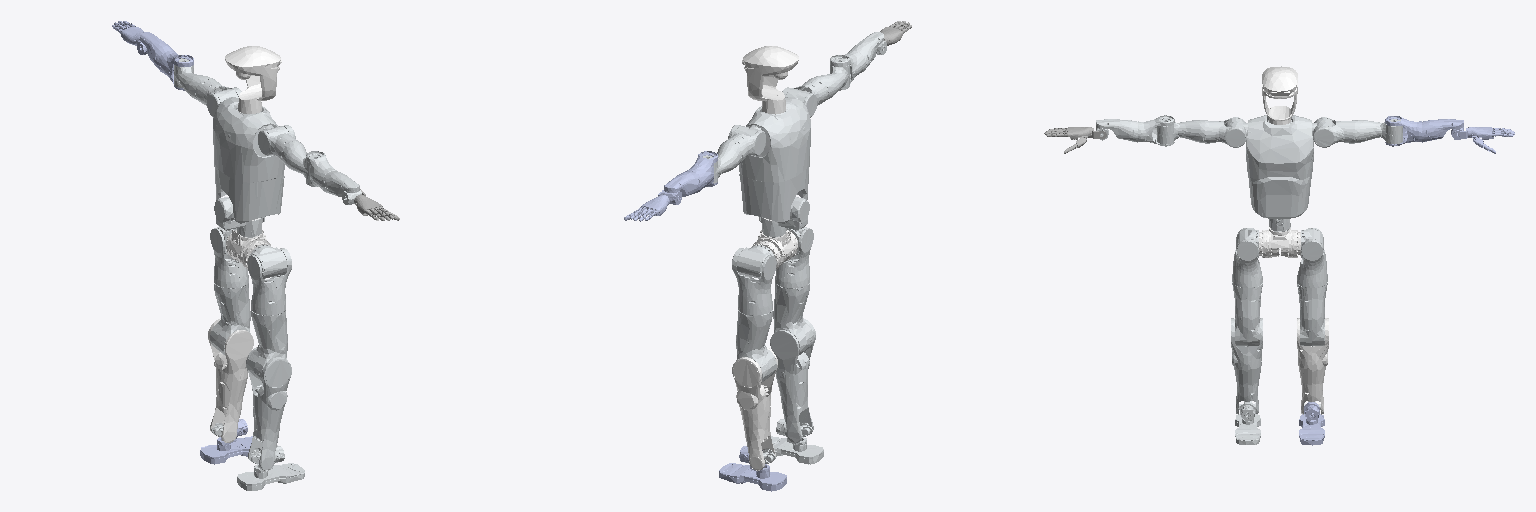
--- Facts derived from the render (not from the file) ---
3 views of the same robot in one strip: view 1: azimuth 30°, elevation 25°; view 2: azimuth 150°, elevation 25°; view 3: azimuth 270°, elevation 25° (orthographic).
Model T170-V2.1-A0-mass with 32 links and 31 joints (23 revolute, 8 fixed), rooted at base_link, posed all joints at 0.
Visible links, largest first — view 1: WAIST_P_S, R_KNEE_P_S, L_KNEE_P_S, NECK_Y_S, R_HIP_Y_S, L_HIP_Y_S, R_HIP_R_S, R_ANKLE_R_S, L_HIP_R_S, L_ANKLE_R_S, WAIST_Y_S, base_link (+10 smaller); view 2: WAIST_P_S, L_KNEE_P_S, R_KNEE_P_S, NECK_Y_S, L_HIP_Y_S, R_HIP_Y_S, L_HIP_R_S, L_ANKLE_R_S, R_HIP_R_S, R_ANKLE_R_S, WAIST_Y_S, base_link (+10 smaller); view 3: WAIST_P_S, L_KNEE_P_S, R_KNEE_P_S, NECK_Y_S, R_HIP_Y_S, L_HIP_Y_S, L_HIP_R_S, R_HIP_R_S, base_link, L_SHOULDER_Y_S, L_ANKLE_R_S, R_ANKLE_R_S (+9 smaller).
Boxes of the visible links, x1=… form: WAIST_P_S: x1=213, y1=97, x2=284, y2=223; R_KNEE_P_S: x1=246, y1=347, x2=291, y2=470; L_KNEE_P_S: x1=208, y1=318, x2=253, y2=442; NECK_Y_S: x1=225, y1=46, x2=281, y2=113; R_HIP_Y_S: x1=247, y1=310, x2=287, y2=382; L_HIP_Y_S: x1=210, y1=283, x2=250, y2=355; R_HIP_R_S: x1=247, y1=248, x2=291, y2=315; R_ANKLE_R_S: x1=237, y1=445, x2=304, y2=490; L_HIP_R_S: x1=210, y1=228, x2=248, y2=288; L_ANKLE_R_S: x1=200, y1=419, x2=252, y2=464; WAIST_Y_S: x1=214, y1=197, x2=264, y2=237; base_link: x1=226, y1=218, x2=270, y2=268; WAIST_P_S: x1=739, y1=97, x2=810, y2=223; L_KNEE_P_S: x1=732, y1=347, x2=777, y2=470; R_KNEE_P_S: x1=770, y1=318, x2=815, y2=442; NECK_Y_S: x1=742, y1=46, x2=798, y2=114; L_HIP_Y_S: x1=736, y1=310, x2=776, y2=382; R_HIP_Y_S: x1=773, y1=283, x2=813, y2=354; L_HIP_R_S: x1=732, y1=248, x2=776, y2=315; L_ANKLE_R_S: x1=719, y1=446, x2=786, y2=491; R_HIP_R_S: x1=775, y1=228, x2=813, y2=288; R_ANKLE_R_S: x1=771, y1=419, x2=823, y2=464; WAIST_Y_S: x1=759, y1=197, x2=809, y2=237; base_link: x1=752, y1=218, x2=797, y2=268; WAIST_P_S: x1=1246, y1=115, x2=1313, y2=218; L_KNEE_P_S: x1=1297, y1=318, x2=1328, y2=414; R_KNEE_P_S: x1=1231, y1=318, x2=1262, y2=414; NECK_Y_S: x1=1262, y1=66, x2=1297, y2=124; R_HIP_Y_S: x1=1232, y1=282, x2=1262, y2=346; L_HIP_Y_S: x1=1297, y1=283, x2=1327, y2=346; L_HIP_R_S: x1=1297, y1=228, x2=1327, y2=287; R_HIP_R_S: x1=1232, y1=228, x2=1262, y2=287; base_link: x1=1259, y1=227, x2=1300, y2=257; L_SHOULDER_Y_S: x1=1355, y1=119, x2=1402, y2=144; L_ANKLE_R_S: x1=1299, y1=402, x2=1324, y2=445; R_ANKLE_R_S: x1=1235, y1=402, x2=1260, y2=444.
Size in the robot's own frame: 0.2739 by 2.02 by 1.72 metres.
31 mesh visuals loaded from 31 distinct referenced files (31 binary STL).

URDF robot description (T170-V2.1-A0-mass):
<?xml version="1.0" encoding="utf-8"?>
<!-- This URDF was automatically created by SolidWorks to URDF Exporter! Originally created by Stephen Brawner ([email redacted])
     Commit Version: 1.6.0-4-g7f85cfe  Build Version: 1.6.7995.38578
     For more information, please see http://wiki.ros.org/sw_urdf_exporter -->
<robot
  name="T170-V2.1-A0-mass">
  <link
    name="base_link">
    <inertial>
              <origin
                xyz="-6.500000000000001e-05 1e-06 -0.045045"
                rpy="0 0 0" />
              <mass
                value="5.294303" />
              <inertia
                ixx="0.024433582611999998"
                ixy="1.3235e-07"
                ixz="1.4710277000000001e-05"
                iyy="0.016612578556"
                iyz="-1.68893e-07"
                izz="0.016497152209000002" />
            </inertial>
    <visual>
      <origin
        xyz="0 0 0"

        rpy="0 0 0" />
      <geometry>
        <mesh
          filename="./meshes/BASE_S.STL" />
      </geometry>
      <material
        name="">
        <color
          rgba="1 1 1 1" />
      </material>
    </visual>
    <collision>
      <origin
        xyz="0 0 -0.08"
        rpy="1.57 0 0" />
			<geometry>
				<cylinder length="0.2" radius="0.05"/>
			</geometry>
    </collision>
  </link>

  <link
    name="L_HIP_P_S">
    <inertial>
              <origin
                xyz="0.012891999999999999 0.041366999999999994 1e-06"
                rpy="0 0 0" />
              <mass
                value="1.60224" />
              <inertia
                ixx="0.002350403566"
                ixy="-7.038434699999999e-05"
                ixz="1.8192000000000002e-08"
                iyy="0.0026586781120000002"
                iyz="5.7659e-08"
                izz="0.0023079587030000004" />
            </inertial>
    <visual>
      <origin
        xyz="0 0 0"
        rpy="0 0 0" />
      <geometry>
        <mesh
          filename="./meshes/L_HIP_P_S.STL" />
      </geometry>
      <material
        name="">
        <color
          rgba="0.898039215686275 0.917647058823529 0.929411764705882 1" />
      </material>
    </visual>
    <!--<collision>
      <origin
        xyz="0 0 0"
        rpy="0 0 0" />
      <geometry>
        <mesh
          filename="./meshes/L_HIP_P_S.STL" />
      </geometry>
    </collision>-->
  </link>
  <joint
    name="L_HIP_P"
    type="revolute">
    <origin
      xyz="0 0.0945 -0.067"
      rpy="0 0 0" />
    <parent
      link="base_link" />
    <child
      link="L_HIP_P_S" />
    <axis
      xyz="0 1 0" />
    <limit
      lower="-3.14"
      upper="3.14"
      effort="267"
      velocity="5.76" />
  </joint>
  <link
    name="L_HIP_R_S">
    <inertial>
              <origin
                xyz="-0.052494 0.001116 -0.135556"
                rpy="0 0 0" />
              <mass
                value="2.123182" />
              <inertia
                ixx="0.007651730159"
                ixy="-1.0006102999999999e-05"
                ixz="-0.001027271998"
                iyy="0.008350014866"
                iyz="-0.00015041607399999998"
                izz="0.003346951658" />
            </inertial>
    <visual>
      <origin
        xyz="0 0 0"
        rpy="0 0 0" />
      <geometry>
        <mesh
          filename="./meshes/L_HIP_R_S.STL" />
      </geometry>
      <material
        name="">
        <color
          rgba="0.898039215686275 0.917647058823529 0.929411764705882 1" />
      </material>
    </visual>
    <!--<collision>
      <origin
        xyz="0 0 0"
        rpy="0 0 0" />
      <geometry>
        <mesh
          filename="./meshes/L_HIP_R_S.STL" />
      </geometry>
    </collision>-->
  </link>
  <joint
    name="L_HIP_R"
    type="revolute">
    <origin
      xyz="0.058 0.044 0"
      rpy="0 0 0" />
    <parent
      link="L_HIP_P_S" />
    <child
      link="L_HIP_R_S" />
    <axis
      xyz="1 0 0" />
    <limit
      lower="-0.261"
      upper="1.744"
      effort="69"
      velocity="8.06" />
  </joint>
  <link
    name="L_HIP_Y_S">
    <inertial>
              <origin
                xyz="0.001701 0.007194 -0.198857"
                rpy="0 0 0" />
              <mass
                value="3.313186" />
              <inertia
                ixx="0.017727672841"
                ixy="-6.456893699999999e-05"
                ixz="-0.000408727743"
                iyy="0.018146293801"
                iyz="-0.00033327960600000004"
                izz="0.006599402896" />
            </inertial>
    <visual>
      <origin
        xyz="0 0 0"
        rpy="0 0 0" />
      <geometry>
        <mesh
          filename="./meshes/L_HIP_Y_S.STL" />
      </geometry>
      <material
        name="">
        <color
          rgba="0.898039215686275 0.917647058823529 0.929411764705882 1" />
      </material>
    </visual>
    <collision>
      <origin
        xyz="0 0.0 -0.05"
        rpy="0 0 0" />
			<geometry>
				<cylinder length="0.2" radius="0.05"/>
			</geometry>
    </collision>
  </link>
  <joint
    name="L_HIP_Y"
    type="revolute">
    <origin
      xyz="-0.058 0 -0.1972"
      rpy="0 0 0" />
    <parent
      link="L_HIP_R_S" />
    <child
      link="L_HIP_Y_S" />
    <axis
      xyz="0 0 -1" />
    <limit
      lower="-3.14"
      upper="3.14"
      effort="121"
      velocity="6.81" />
  </joint>
  <link
    name="L_KNEE_P_S">
    <inertial>
              <origin
                xyz="0.000631 -0.043392 -0.119632"
                rpy="0 0 0" />
              <mass
                value="2.644024" />
              <inertia
                ixx="0.025178069248"
                ixy="-6.2763632e-05"
                ixz="-0.00159828665"
                iyy="0.023717199600000002"
                iyz="-0.00031968927500000005"
                izz="0.006274894778" />
            </inertial>
    <visual>
      <origin
        xyz="0 0 0"
        rpy="0 0 0" />
      <geometry>
        <mesh
          filename="./meshes/L_KNEE_P_S.STL" />
      </geometry>
      <material
        name="">
        <color
          rgba="1 1 1 1" />
      </material>
    </visual>
    <collision>
      <origin
        xyz="0 -0.05 -0.15"
        rpy="0 0 0" />
			<geometry>
				<cylinder length="0.2" radius="0.05"/>
			</geometry>
    </collision>
  </link>
  <joint
    name="L_KNEE_P"
    type="revolute">
    <origin
      xyz="0 0.057 -0.2228"
      rpy="0 0 0" />
    <parent
      link="L_HIP_Y_S" />
    <child
      link="L_KNEE_P_S" />
    <axis
      xyz="0 1 0" />
    <limit
      lower="-0.83"
      upper="2.3"
      effort="267"
      velocity="5.76" />
  </joint>
  <link
    name="L_ANKLE_P_S">
    <inertial>
              <origin
                xyz="-0.0051920000000000004 -0.003552 0.001356"
                rpy="0 0 0" />
              <mass
                value="0.208363" />
              <inertia
                ixx="0.000112416441"
                ixy="1.092665e-06"
                ixz="7.950015000000001e-06"
                iyy="7.9570327e-05"
                iyz="-2.66666e-07"
                izz="0.00015223668599999998" />
            </inertial>
    <visual>
      <origin
        xyz="0 0 0"
        rpy="0 0 0" />
      <geometry>
        <mesh
          filename="./meshes/L_ANKLE_P_S.STL" />
      </geometry>
      <material
        name="">
        <color
          rgba="0.898039215686275 0.917647058823529 0.929411764705882 1" />
      </material>
    </visual>
    <!--<collision>
      <origin
        xyz="0 0 0"
        rpy="0 0 0" />
      <geometry>
        <mesh
          filename="./meshes/L_ANKLE_P_S.STL" />
      </geometry>
    </collision>-->
  </link>
  <joint
    name="L_ANKLE_P"
    type="revolute">
    <origin
      xyz="-0.032248 -0.058 -0.36859"
      rpy="0 0 0" />
    <parent
      link="L_KNEE_P_S" />
    <child
      link="L_ANKLE_P_S" />
    <axis
      xyz="0 -1 0" />
    <limit
      lower="-1.57"
      upper="0.614"
      effort="69"
      velocity="8.06" />
  </joint>
  <link
    name="L_ANKLE_R_S">
    <inertial>
              <origin
                xyz="0.016272 2e-06 -0.054217"
                rpy="0 0 0" />
              <mass
                value="1.670521" />
              <inertia
                ixx="0.0034800322570000004"
                ixy="1.9162e-07"
                ixz="-0.000268219044"
                iyy="0.008485757659"
                iyz="1.3101000000000001e-08"
                izz="0.006910381204" />
            </inertial>
    <visual>
      <origin
        xyz="0 0 0"
        rpy="0 0 0" />
      <geometry>
        <mesh
          filename="./meshes/L_ANKLE_R_S.STL" />
      </geometry>
      <material
        name="">
        <color
          rgba="0.792156862745098 0.819607843137255 0.933333333333333 1" />
      </material>
    </visual>
    <!--<collision>
      <origin
        xyz="0 0 0"
        rpy="0 0 0" />
      <geometry>
        <mesh
          filename="./meshes/L_ANKLE_R_S.STL" />
      </geometry>
    </collision>-->

    <collision>
      <origin
        xyz="0.02 0 -0.08"
        rpy="0 0 0" />
      <geometry>
        <box size="0.24 0.11 0.03"/>
      </geometry>
    </collision>

  </link>
  <joint
    name="L_ANKLE_R"
    type="revolute">
    <origin
      xyz="0.023 0 0"
      rpy="0 0 0" />
    <parent
      link="L_ANKLE_P_S" />
    <child
      link="L_ANKLE_R_S" />
    <axis
      xyz="1 0 0" />
    <limit
      lower="-0.64"
      upper="0.64"
      effort="23"
      velocity="10.16" />
  </joint>
  <link
    name="R_HIP_P_S">
    <inertial>
              <origin
                xyz="0.012891999999999999 -0.041366999999999994 1e-06"
                rpy="0 0 0" />
              <mass
                value="1.602236" />
              <inertia
                ixx="0.002350387347"
                ixy="7.0386011e-05"
                ixz="2.08997e-07"
                iyy="0.002658669353"
                iyz="-5.7559e-08"
                izz="0.002307962669" />
            </inertial>
    <visual>
      <origin
        xyz="0 0 0"
        rpy="0 0 0" />
      <geometry>
        <mesh
          filename="./meshes/R_HIP_P_S.STL" />
      </geometry>
      <material
        name="">
        <color
          rgba="0.898039215686275 0.917647058823529 0.929411764705882 1" />
      </material>
    </visual>
    <!--<collision>
      <origin
        xyz="0 0 0"
        rpy="0 0 0" />
      <geometry>
        <mesh
          filename="./meshes/R_HIP_P_S.STL" />
      </geometry>
    </collision>-->
  </link>
  <joint
    name="R_HIP_P"
    type="revolute">
    <origin
      xyz="0 -0.0945 -0.067"
      rpy="0 0 0" />
    <parent
      link="base_link" />
    <child
      link="R_HIP_P_S" />
    <axis
      xyz="0 -1 0" />
    <limit
      lower="-3.14"
      upper="3.14"
      effort="267"
      velocity="5.76" />
  </joint>
  <link
    name="R_HIP_R_S">
    <inertial>
              <origin
                xyz="-0.052494 -0.001116 -0.135556"
                rpy="0 0 0" />
              <mass
                value="2.123172" />
              <inertia
                ixx="0.007651678789"
                ixy="9.966719e-06"
                ixz="-0.001027351346"
                iyy="0.008350089033"
                iyz="0.000150362603"
                izz="0.00334698021" />
            </inertial>
    <visual>
      <origin
        xyz="0 0 0"
        rpy="0 0 0" />
      <geometry>
        <mesh
          filename="./meshes/R_HIP_R_S.STL" />
      </geometry>
      <material
        name="">
        <color
          rgba="0.898039215686275 0.917647058823529 0.929411764705882 1" />
      </material>
    </visual>
    <!--<collision>
      <origin
        xyz="0 0 0"
        rpy="0 0 0" />
      <geometry>
        <mesh
          filename="./meshes/R_HIP_R_S.STL" />
      </geometry>
    </collision>-->
  </link>
  <joint
    name="R_HIP_R"
    type="revolute">
    <origin
      xyz="0.058 -0.044 0"
      rpy="0 0 0" />
    <parent
      link="R_HIP_P_S" />
    <child
      link="R_HIP_R_S" />
    <axis
      xyz="-1 0 0" />
    <limit
      lower="-1.744"
      upper="0.261"
      effort="69"
      velocity="8.06" />
  </joint>
  <link
    name="R_HIP_Y_S">
    <inertial>
              <origin
                xyz="0.001702 -0.007193 -0.198851"
                rpy="0 0 0" />
              <mass
                value="3.313288" />
              <inertia
                ixx="0.017731261837000002"
                ixy="6.415347800000001e-05"
                ixz="-0.000409299561"
                iyy="0.018149824549"
                iyz="0.000332521739"
                izz="0.006599775929" />
            </inertial>
    <visual>
      <origin
        xyz="0 0 0"
        rpy="0 0 0" />
      <geometry>
        <mesh
          filename="./meshes/R_HIP_Y_S.STL" />
      </geometry>
      <material
        name="">
        <color
          rgba="0.898039215686275 0.917647058823529 0.929411764705882 1" />
      </material>
    </visual>
    <collision>
      <origin
        xyz="0 0.0 -0.05"
        rpy="0 0 0" />
			<geometry>
				<cylinder length="0.2" radius="0.05"/>
			</geometry>
    </collision>
  </link>
  <joint
    name="R_HIP_Y"
    type="revolute">
    <origin
      xyz="-0.058 0 -0.1972"
      rpy="0 0 0" />
    <parent
      link="R_HIP_R_S" />
    <child
      link="R_HIP_Y_S" />
    <axis
      xyz="0 0 -1" />
    <limit
      lower="-3.14"
      upper="3.14"
      effort="121"
      velocity="6.81" />
  </joint>
  <link
    name="R_KNEE_P_S">
    <inertial>
              <origin
                xyz="0.0006360000000000001 0.04339 -0.119639"
                rpy="0 0 0" />
              <mass
                value="2.644373" />
              <inertia
                ixx="0.025184545238"
                ixy="6.2682668e-05"
                ixz="-0.001598721426"
                iyy="0.023724867226"
                iyz="0.000318879433"
                izz="0.006275270264" />
            </inertial>
    <visual>
      <origin
        xyz="0 0 0"
        rpy="0 0 0" />
      <geometry>
        <mesh
          filename="./meshes/R_KNEE_P_S.STL" />
      </geometry>
      <material
        name="">
        <color
          rgba="0.898039215686275 0.917647058823529 0.929411764705882 1" />
      </material>
    </visual>
    <collision>
      <origin
        xyz="0 0.05 -0.15"
        rpy="0 0 0" />
			<geometry>
				<cylinder length="0.2" radius="0.05"/>
			</geometry>
    </collision>
  </link>
  <joint
    name="R_KNEE_P"
    type="revolute">
    <origin
      xyz="0 -0.057 -0.2228"
      rpy="0 0 0" />
    <parent
      link="R_HIP_Y_S" />
    <child
      link="R_KNEE_P_S" />
    <axis
      xyz="0 -1 0" />
    <limit
      lower="-2.3"
      upper="0.83"
      effort="267"
      velocity="5.76" />
  </joint>
  <link
    name="R_ANKLE_P_S">
    <inertial>
              <origin
                xyz="-0.005285 0.0029 0.00138"
                rpy="0 0 0" />
              <mass
                value="0.20469900000000002" />
              <inertia
                ixx="0.000106648193"
                ixy="-3.86891e-07"
                ixz="7.923754e-06"
                iyy="7.7879228e-05"
                iyz="8.2406e-08"
                izz="0.00014637474900000002" />
            </inertial>
    <visual>
      <origin
        xyz="0 0 0"
        rpy="0 0 0" />
      <geometry>
        <mesh
          filename="./meshes/R_ANKLE_P_S.STL" />
      </geometry>
      <material
        name="">
        <color
          rgba="0.898039215686275 0.917647058823529 0.929411764705882 1" />
      </material>
    </visual>
    <!--<collision>
      <origin
        xyz="0 0 0"
        rpy="0 0 0" />
      <geometry>
        <mesh
          filename="./meshes/R_ANKLE_P_S.STL" />
      </geometry>
    </collision>-->
  </link>
  <joint
    name="R_ANKLE_P"
    type="revolute">
    <origin
      xyz="-0.032248 0.058 -0.36859"
      rpy="0 0 0" />
    <parent
      link="R_KNEE_P_S" />
    <child
      link="R_ANKLE_P_S" />
    <axis
      xyz="0 1 0" />
    <limit
      lower="-0.614"
      upper="1.57"
      effort="69"
      velocity="8.06" />
  </joint>
  <link
    name="R_ANKLE_R_S">
    <inertial>
              <origin
                xyz="0.016272 -2e-06 -0.054217"
                rpy="0 0 0" />
              <mass
                value="1.67052" />
              <inertia
                ixx="0.003480032579"
                ixy="-1.91673e-07"
                ixz="-0.00026821871500000004"
                iyy="0.00848575142"
                iyz="-1.399e-08"
                izz="0.00691037666" />
            </inertial>
    <visual>
      <origin
        xyz="0 0 0"
        rpy="0 0 0" />
      <geometry>
        <mesh
          filename="./meshes/R_ANKLE_R_S.STL" />
      </geometry>
      <material
        name="">
        <color
          rgba="0.898039215686275 0.917647058823529 0.929411764705882 1" />
      </material>
    </visual>
    <!--<collision>
      <origin
        xyz="0 0 0"
        rpy="0 0 0" />
      <geometry>
        <mesh
          filename="./meshes/R_ANKLE_R_S.STL" />
      </geometry>
    </collision>-->


    <collision>
      <origin
        xyz="0.02 0 -0.08"
        rpy="0 0 0" />
      <geometry>
        <box size="0.24 0.11 0.03"/>
      </geometry>
    </collision>
  </link>
  <joint
    name="R_ANKLE_R"
    type="revolute">
    <origin
      xyz="0.023 0 0"
      rpy="0 0 0" />
    <parent
      link="R_ANKLE_P_S" />
    <child
      link="R_ANKLE_R_S" />
    <axis
      xyz="1 0 0" />
    <limit
      lower="-0.64"
      upper="0.64"
      effort="23"
      velocity="10.16" />
  </joint>
  <link
    name="WAIST_Y_S">
    <inertial>
              <origin
                xyz="-0.070117 0.0 0.109774"
                rpy="0 0 0" />
              <mass
                value="1.49971" />
              <inertia
                ixx="0.002892639151"
                ixy="-6.4603e-08"
                ixz="0.0011632690249999999"
                iyy="0.005042794342"
                iyz="1.3865e-08"
                izz="0.003666403193" />
            </inertial>
    <visual>
      <origin
        xyz="0 0 0"
        rpy="0 0 0" />
      <geometry>
        <mesh
          filename="./meshes/WAIST_Y_S.STL" />
      </geometry>
      <material
        name="">
        <color
          rgba="0.898039215686275 0.917647058823529 0.929411764705882 1" />
      </material>
    </visual>
    <!--<collision>
      <origin
        xyz="0 0 0"
        rpy="0 0 0" />
      <geometry>
        <mesh
          filename="./meshes/WAIST_Y_S.STL" />
      </geometry>
    </collision>-->
  </link>
  <joint
    name="WAIST_Y"
    type="revolute">
    <origin
      xyz="0 0 0"
      rpy="0 0 0" />
    <parent
      link="base_link" />
    <child
      link="WAIST_Y_S" />
    <axis
      xyz="0 0 1" />
    <limit
      lower="-3.14"
      upper="3.14"
      effort="63"
      velocity="8.06" />
  </joint>
  <link
    name="WAIST_R_S">
    <inertial>
              <origin
                xyz="0.047638 0.0060609999999999995 0.0"
                rpy="0 0 0" />
              <mass
                value="1.3648900000000002" />
              <inertia
                ixx="0.0013838946489999999"
                ixy="-1.4820964e-05"
                ixz="1.2329e-08"
                iyy="0.001586091616"
                iyz="6.57485e-07"
                izz="0.001453676082" />
            </inertial>
    <visual>
      <origin
        xyz="0 0 0"
        rpy="0 0 0" />
      <geometry>
        <mesh
          filename="./meshes/WAIST_R_S.STL" />
      </geometry>
      <material
        name="">
        <color
          rgba="0.898039215686275 0.917647058823529 0.929411764705882 1" />
      </material>
    </visual>
    <!--<collision>
      <origin
        xyz="0 0 0"
        rpy="0 0 0" />
      <geometry>
        <mesh
          filename="./meshes/WAIST_R_S.STL" />
      </geometry>
    </collision>-->
  </link>
  <joint
    name="WAIST_R"
    type="revolute">
    <origin
      xyz="-0.0495 0 0.127"
      rpy="0 0 0" />
    <parent
      link="WAIST_Y_S" />
    <child
      link="WAIST_R_S" />
    <axis
      xyz="1 0 0" />
    <limit
      lower="-0.61"
      upper="0.61"
      effort="63"
      velocity="8.06" />
  </joint>
  <link
    name="WAIST_P_S">
    <inertial>
              <origin
                xyz="0.00211 -0.046560000000000004 0.245727"
                rpy="0 0 0" />
              <mass
                value="11.080885" />
              <inertia
                ixx="0.11949464686200001"
                ixy="-5.1488261e-05"
                ixz="0.0020396562460000003"
                iyy="0.08538231980699999"
                iyz="2.4585865000000002e-05"
                izz="0.065471635027" />
            </inertial>
    <visual>
      <origin
        xyz="0 0 0"
        rpy="0 0 0" />
      <geometry>
        <mesh
          filename="./meshes/WAIST_P_S.STL" />
      </geometry>
      <material
        name="">
        <color
          rgba="0.898039215686275 0.917647058823529 0.929411764705882 1" />
      </material>
    </visual>
    <collision>
      <origin
        xyz="0 0 0"
        rpy="0 0 0" />
      <geometry>
        <mesh
          filename="./meshes/WAIST_P_S.STL" />
      </geometry>
    </collision>
  </link>
  <joint
    name="WAIST_P"
    type="revolute">
    <origin
      xyz="0.0495 0.0465 0"
      rpy="0 0 0" />
    <parent
      link="WAIST_R_S" />
    <child
      link="WAIST_P_S" />
    <axis
      xyz="0 1 0" />
    <limit
      lower="-0.244"
      upper="0.523"
      effort="63"
      velocity="8.06" />
  </joint>
  <link
    name="L_SHOULDER_P_S">
    <inertial>
              <origin
                xyz="0.011526 0.059677999999999995 0.0"
                />
              <mass
                value="1.444881" />
              <inertia
                ixx="0.001949609421"
                ixy="-9.1641714e-05"
                ixz="3.02e-09"
                iyy="0.0015971993259999999"
                iyz="2.784e-09"
                izz="0.001979001997" />
            </inertial>
    <visual>
      <origin
        xyz="0 0 0"
        />
      <geometry>
        <mesh
          filename="./meshes/L_SHOULDER_P_S.STL" />
      </geometry>
      <material
        name="">
        <color
          rgba="0.898039215686275 0.917647058823529 0.929411764705882 1" />
      </material>
    </visual>
    <!--<collision>
      <origin
        xyz="0 0 0"
        rpy="0 0 0" />
      <geometry>
        <mesh
          filename="./meshes/L_SHOULDER_P_S.STL" />
      </geometry>
    </collision>-->
  </link>
  <joint
    name="L_SHOULDER_P"
    type="revolute">
    <origin
      xyz="0.0005 0.0775 0.336"
      />
    <parent
      link="WAIST_P_S" />
    <child
      link="L_SHOULDER_P_S" />
    <axis
      xyz="0 1 0" />
    <limit
      lower="-3.14"
      upper="3.14"
      effort="63"
      velocity="8.06" />
  </joint>
  <link
    name="L_SHOULDER_R_S">
    <inertial>
              <origin
                xyz="-0.050103 0.088587 0.000207"
                />
              <mass
                value="1.014451" />
              <inertia
                ixx="0.002349561045"
                ixy="0.000320579472"
                ixz="1.414894e-06"
                iyy="0.0011315652760000002"
                iyz="1.6244966e-05"
                izz="0.002633113913" />
            </inertial>
    <visual>
      <origin
        xyz="0 0 0"
         />
      <geometry>
        <mesh
          filename="./meshes/L_SHOULDER_R_S.STL" />
      </geometry>
      <material
        name="">
        <color
          rgba="0.898039215686275 0.917647058823529 0.929411764705882 1" />
      </material>
    </visual>
    <!--<collision>
      <origin
        xyz="0 0 0"
        rpy="0 0 0" />
      <geometry>
        <mesh
          filename="./meshes/L_SHOULDER_R_S.STL" />
      </geometry>
    </collision>-->
  </link>
  <joint
    name="L_SHOULDER_R"
    type="revolute">
    <origin
      xyz="0.054 0.066 0"
      />
    <parent
      link="L_SHOULDER_P_S" />
    <child
      link="L_SHOULDER_R_S" />
    <axis
      xyz="1 0 0" />
    <limit
      lower="-1.57"
      upper="1.57"
      effort="63"
      velocity="8.06" />
  </joint>
  <link
    name="L_SHOULDER_Y_S">
    <inertial>
              <origin
                xyz="-0.002242 0.128183 0.013930999999999999"
                 />
              <mass
                value="1.09809" />
              <inertia
                ixx="0.0043556597410000005"
                ixy="-0.00014642066000000002"
                ixz="-2.0792439999999997e-05"
                iyy="0.001024987862"
                iyz="-0.000155152164"
                izz="0.00415956279" />
            </inertial>
    <visual>
      <origin
        xyz="0 0 0"
         />
      <geometry>
        <mesh
          filename="./meshes/L_SHOULDER_Y_S.STL" />
      </geometry>
      <material
        name="">
        <color
          rgba="0.898039215686275 0.917647058823529 0.929411764705882 1" />
      </material>
    </visual>
    <!--<collision>
      <origin
        xyz="0 0 0"
        rpy="0 0 0" />
      <geometry>
        <mesh
          filename="./meshes/L_SHOULDER_Y_S.STL" />
      </geometry>
    </collision>-->
  </link>
  <joint
    name="L_SHOULDER_Y"
    type="revolute">
    <origin
      xyz="-0.054 0.1395 0"
      />
    <parent
      link="L_SHOULDER_R_S" />
    <child
      link="L_SHOULDER_Y_S" />
    <axis
      xyz="0 1 0" />
    <limit
      lower="-3.14"
      upper="3.14"
      effort="42"
      velocity="8.59" />
  </joint>
  <link
    name="L_ELBOW_Y_S">
    <inertial>
              <origin
                xyz="-0.000772 0.079344 -0.047655"
                 />
              <mass
                value="0.71509" />
              <inertia
                ixx="0.0015319294410000002"
                ixy="-2.9833332999999998e-05"
                ixz="-1.601666e-06"
                iyy="0.0008379935259999999"
                iyz="0.00011718606699999999"
                izz="0.001338291607" />
            </inertial>
    <visual>
      <origin
        xyz="0 0 0"
         />
      <geometry>
        <mesh
          filename="./meshes/L_ELBOW_Y_S.STL" />
      </geometry>
      <material
        name="">
        <color
          rgba="0.792156862745098 0.819607843137255 0.933333333333333 1" />
      </material>
    </visual>
    <collision>
      <origin
        xyz="0 0 0"
        />
      <geometry>
        <mesh
          filename="./meshes/L_ELBOW_Y_S.STL" />
      </geometry>
    </collision>
  </link>
  <joint
    name="L_ELBOW_Y"
    type="revolute">
    <origin
      xyz="0 0.1605 0.051"
       />
    <parent
      link="L_SHOULDER_Y_S" />
    <child
      link="L_ELBOW_Y_S" />
    <axis
      xyz="0 0 1" />
    <limit
      lower="-2.4"
      upper="0.87"
      effort="42"
      velocity="8.59" />
  </joint>
  <link
    name="L_WRIST_P_S">
    <inertial>
              <origin
                xyz="-2e-05 0.051770000000000004 0.015054"
                 />
              <mass
                value="0.787608" />
              <inertia
                ixx="0.0018731701289999999"
                ixy="2.748841e-06"
                ixz="3.4995299999999996e-07"
                iyy="0.000729715644"
                iyz="-0.000416873988"
                izz="0.001676076534" />
            </inertial>
    <visual>
      <origin
        xyz="0 0 0"
        />
      <geometry>
        <mesh
          filename="./meshes/L_WRIST_P_S.STL" />
      </geometry>
      <material
        name="">
        <color
          rgba="0.792156862745098 0.819607843137255 0.933333333333333 1" />
      </material>
    </visual>
    <!--<collision>
      <origin
        xyz="0 0 0"
        rpy="0 0 0" />
      <geometry>
        <mesh
          filename="./meshes/L_WRIST_P_S.STL" />
      </geometry>
    </collision>-->
  </link>
  <joint
    name="L_WRIST_P"
    type="fixed">
    <origin
      xyz="0 0.1281 -0.051"
      />
    <parent
      link="L_ELBOW_Y_S" />
    <child
      link="L_WRIST_P_S" />
    <axis
      xyz="0 1 0" />
    <limit
      lower="-3.14"
      upper="3.14"
      effort="23"
      velocity="10.16" />
  </joint>
  <link
    name="L_WRIST_Y_S">
    <inertial>
              <origin
                xyz="-0.0007840000000000001 0.00022600000000000002 -0.037801"
                 />
              <mass
                value="0.38146199999999997" />
              <inertia
                ixx="0.000182718093"
                ixy="1.6518999999999999e-07"
                ixz="-9.57867e-07"
                iyy="0.00021651213"
                iyz="-4.338e-08"
                izz="0.000172529454" />
            </inertial>
    <visual>
      <origin
        xyz="0 0 0"
        />
      <geometry>
        <mesh
          filename="./meshes/L_WRIST_Y_S.STL" />
      </geometry>
      <material
        name="">
        <color
          rgba="0.792156862745098 0.819607843137255 0.933333333333333 1" />
      </material>
    </visual>
    <!--<collision>
      <origin
        xyz="0 0 0"
        rpy="0 0 0" />
      <geometry>
        <mesh
          filename="./meshes/L_WRIST_Y_S.STL" />
      </geometry>
    </collision>-->
  </link>
  <joint
    name="L_WRIST_Y"
    type="fixed">
    <origin
      xyz="9.0984E-05 0.14468 0.0425"
       />
    <parent
      link="L_WRIST_P_S" />
    <child
      link="L_WRIST_Y_S" />
    <axis
      xyz="0 0 1" />
    <limit
      lower="-0.69"
      upper="0.69"
      effort="8.3"
      velocity="12.36" />
  </joint>
  <link
    name="L_WRIST_R_S">
    <inertial>
              <origin
                xyz="-0.011640000000000001 0.118483 -0.0036030000000000003"
                />
              <mass
                value="0.553221" />
              <inertia
                ixx="0.001536982549"
                ixy="8.1942823e-05"
                ixz="0.000146124869"
                iyy="0.000603820302"
                iyz="4.045243e-06"
                izz="0.001875863069" />
            </inertial>
    <visual>
      <origin
        xyz="0 0 0"
         />
      <geometry>
        <mesh
          filename="./meshes/L_WRIST_R_S.STL" />
      </geometry>
      <material
        name="">
        <color
          rgba="0.792156862745098 0.819607843137255 0.933333333333333 1" />
      </material>
    </visual>
    <!--<collision>
      <origin
        xyz="0 0 0"
        rpy="0 0 0" />
      <geometry>
        <mesh
          filename="./meshes/L_WRIST_R_S.STL" />
      </geometry>
    </collision>-->

    <collision>
      <origin
        xyz="0 0.2 0"
        />
      <geometry>
        <box size="0.08 0.1 0.05"/>
      </geometry>
    </collision>

  </link>
  <joint
    name="L_WRIST_R"
    type="fixed">
    <origin
      xyz="0.030909 0.00022307 -0.0415"
      rpy="0 0 0" />
    <parent
      link="L_WRIST_Y_S" />
    <child
      link="L_WRIST_R_S" />
    <axis
      xyz="1 0 0" />
    <limit
      lower="-2.35"
      upper="0.348"
      effort="8.3"
      velocity="12.36" />
  </joint>
  <link
    name="R_SHOULDER_P_S">
    <inertial>
              <origin
                xyz="0.010619 -0.059179 0"
                />
              <mass
                value="1.4546679999999999" />
              <inertia
                ixx="0.001954186556"
                ixy="8.813481600000001e-05"
                ixz="-5.440000000000001e-10"
                iyy="0.0016309633759999998"
                iyz="1.352e-09"
                izz="0.002013157615" />
            </inertial>
    <visual>
      <origin
        xyz="0 0 0"
        />
      <geometry>
        <mesh
          filename="./meshes/R_SHOULDER_P_S.STL" />
      </geometry>
      <material
        name="">
        <color
          rgba="0.898039215686275 0.917647058823529 0.929411764705882 1" />
      </material>
    </visual>
    <!--<collision>
      <origin
        xyz="0 0 0"
        rpy="0 0 0" />
      <geometry>
        <mesh
          filename="./meshes/R_SHOULDER_P_S.STL" />
      </geometry>
    </collision>-->
  </link>
  <joint
    name="R_SHOULDER_P"
    type="revolute">
    <origin
      xyz="0.0005 -0.1705 0.336"
       />
    <parent
      link="WAIST_P_S" />
    <child
      link="R_SHOULDER_P_S" />
    <axis
      xyz="0 1 0" />
    <limit
      lower="-3.14"
      upper="3.14"
      effort="63"
      velocity="8.06" />
  </joint>
  <link
    name="R_SHOULDER_R_S">
    <inertial>
              <origin
                xyz="-0.046824 -0.072798 0.000381"
                />
              <mass
                value="1.014496" />
              <inertia
                ixx="0.002349644494"
                ixy="-0.000320589934"
                ixz="1.437102e-06"
                iyy="0.001131637812"
                iyz="-1.6236977e-05"
                izz="0.002633199673" />
            </inertial>
    <visual>
      <origin
        xyz="0 0 0"
        />
      <geometry>
        <mesh
          filename="./meshes/R_SHOULDER_R_S.STL" />
      </geometry>
      <material
        name="">
        <color
          rgba="0.898039215686275 0.917647058823529 0.929411764705882 1" />
      </material>
    </visual>
    <!--<collision>
      <origin
        xyz="0 0 0"
        rpy="0 0 0" />
      <geometry>
        <mesh
          filename="./meshes/R_SHOULDER_R_S.STL" />
      </geometry>
    </collision>-->
  </link>
  <joint
    name="R_SHOULDER_R"
    type="revolute">
    <origin
      xyz="0.054 -0.066 0"
      />
    <parent
      link="R_SHOULDER_P_S" />
    <child
      link="R_SHOULDER_R_S" />
    <axis
      xyz="1 0 0" />
    <limit
      lower="-1.57"
      upper="1.57"
      effort="63"
      velocity="8.06" />
  </joint>
  <link
    name="R_SHOULDER_Y_S">
    <inertial>
              <origin
                xyz="-0.003882 -0.10458 0.010336"
                 />
              <mass
                value="1.098095" />
              <inertia
                ixx="0.004355094775"
                ixy="0.00014650948800000002"
                ixz="-2.0837701e-05"
                iyy="0.00102492432"
                iyz="0.00015511217300000002"
                izz="0.004159196881" />
            </inertial>
    <visual>
      <origin
        xyz="0 0 0"
         />
      <geometry>
        <mesh
          filename="./meshes/R_SHOULDER_Y_S.STL" />
      </geometry>
      <material
        name="">
        <color
          rgba="0.898039215686275 0.917647058823529 0.929411764705882 1" />
      </material>
    </visual>
    <!--<collision>
      <origin
        xyz="0 0 0"
        rpy="0 0 0" />
      <geometry>
        <mesh
          filename="./meshes/R_SHOULDER_Y_S.STL" />
      </geometry>
    </collision>-->
  </link>
  <joint
    name="R_SHOULDER_Y"
    type="revolute">
    <origin
      xyz="-0.054 -0.1395 0"
       />
    <parent
      link="R_SHOULDER_R_S" />
    <child
      link="R_SHOULDER_Y_S" />
    <axis
      xyz="0 1 0" />
    <limit
      lower="-3.14"
      upper="3.14"
      effort="42"
      velocity="8.59" />
  </joint>
  <link
    name="R_ELBOW_Y_S">
    <inertial>
              <origin
                xyz="-0.000784 -0.079077 -0.047592"
                 />
              <mass
                value="0.71504" />
              <inertia
                ixx="0.0015318807949999999"
                ixy="2.9772111e-05"
                ixz="-1.560932e-06"
                iyy="0.000837959623"
                iyz="-0.000117236974"
                izz="0.0013381406899999999" />
            </inertial>
    <visual>
      <origin
        xyz="0 0 0"
        />
      <geometry>
        <mesh
          filename="./meshes/R_ELBOW_Y_S.STL" />
      </geometry>
      <material
        name="">
        <color
          rgba="0.898039215686275 0.917647058823529 0.929411764705882 1" />
      </material>
    </visual>
    <collision>
      <origin
        xyz="0 0 0"
         />
      <geometry>
        <mesh
          filename="./meshes/R_ELBOW_Y_S.STL" />
      </geometry>
    </collision>
  </link>
  <joint
    name="R_ELBOW_Y"
    type="revolute">
    <origin
      xyz="0 -0.1605 0.051"
       />
    <parent
      link="R_SHOULDER_Y_S" />
    <child
      link="R_ELBOW_Y_S" />
    <axis
      xyz="0 0 1" />
    <limit
      lower="-0.87"
      upper="2.4"
      effort="42"
      velocity="8.59" />
  </joint>
  <link
    name="R_WRIST_P_S">
    <inertial>
              <origin
                xyz="0 -0.051437 0.014735"
                />
              <mass
                value="0.7868890000000001" />
              <inertia
                ixx="0.001872273263"
                ixy="-3.080441e-06"
                ixz="2.88905e-07"
                iyy="0.000729272968"
                iyz="0.000417065446"
                izz="0.001675513763" />
            </inertial>
    <visual>
      <origin
        xyz="0 0 0"
        />
      <geometry>
        <mesh
          filename="./meshes/R_WRIST_P_S.STL" />
      </geometry>
      <material
        name="">
        <color
          rgba="0.898039215686275 0.917647058823529 0.929411764705882 1" />
      </material>
    </visual>
    <!--<collision>
      <origin
        xyz="0 0 0"
        rpy="0 0 0" />
      <geometry>
        <mesh
          filename="./meshes/R_WRIST_P_S.STL" />
      </geometry>
    </collision>-->
  </link>
  <joint
    name="R_WRIST_P"
    type="fixed">
    <origin
      xyz="0 -0.1281 -0.051"
       />
    <parent
      link="R_ELBOW_Y_S" />
    <child
      link="R_WRIST_P_S" />
    <axis
      xyz="0 1 0" />
    <limit
      lower="-3.14"
      upper="3.14"
      effort="23"
      velocity="10.16" />
  </joint>
  <link
    name="R_WRIST_Y_S">
    <inertial>
              <origin
                xyz="-0.000915 -0.000224 -0.039334"
                />
              <mass
                value="0.38146199999999997" />
              <inertia
                ixx="0.000182718093"
                ixy="-1.6518999999999999e-07"
                ixz="-9.57867e-07"
                iyy="0.00021651213"
                iyz="4.338e-08"
                izz="0.000172529454" />
            </inertial>
    <visual>
      <origin
        xyz="0 0 0"
        />
      <geometry>
        <mesh
          filename="./meshes/R_WRIST_Y_S.STL" />
      </geometry>
      <material
        name="">
        <color
          rgba="0.898039215686275 0.917647058823529 0.929411764705882 1" />
      </material>
    </visual>
    <!--<collision>
      <origin
        xyz="0 0 0"
        rpy="0 0 0" />
      <geometry>
        <mesh
          filename="./meshes/R_WRIST_Y_S.STL" />
      </geometry>
    </collision>-->
  </link>
  <joint
    name="R_WRIST_Y"
    type="fixed">
    <origin
      xyz="9.0984E-05 -0.14468 0.0425"
       />
    <parent
      link="R_WRIST_P_S" />
    <child
      link="R_WRIST_Y_S" />
    <axis
      xyz="0 0 1" />
    <limit
      lower="-0.69"
      upper="0.69"
      effort="8.3"
      velocity="12.36" />
  </joint>
  <link
    name="R_WRIST_R_S">
    <inertial>
              <origin
                xyz="-0.011723 -0.118518 -0.002744"
                />
              <mass
                value="0.553221" />
              <inertia
                ixx="0.001538629013"
                ixy="-8.0720572e-05"
                ixz="0.000152285311"
                iyy="0.0006011281409999999"
                iyz="6.235099e-06"
                izz="0.001871429419" />
            </inertial>
    <visual>
      <origin
        xyz="0 0 0"
       />
      <geometry>
        <mesh
          filename="./meshes/R_WRIST_R_S.STL" />
      </geometry>
      <material
        name="">
        <color
          rgba="0.752941176470588 0.752941176470588 0.752941176470588 1" />
      </material>
    </visual>
    <!--<collision>
      <origin
        xyz="0 0 0"
        rpy="0 0 0" />
      <geometry>
        <mesh
          filename="./meshes/R_WRIST_R_S.STL" />
      </geometry>
    </collision>-->

    <collision>
      <origin
        xyz="0 -0.2 0"
        />
      <geometry>
        <box size="0.08 0.1 0.05"/>
      </geometry>
    </collision>

  </link>
  <joint
    name="R_WRIST_R"
    type="fixed">
    <origin
      xyz="0.030909 -0.00022307 -0.0415"
       />
    <parent
      link="R_WRIST_Y_S" />
    <child
      link="R_WRIST_R_S" />
    <axis
      xyz="1 0 0" />
    <limit
      lower="-0.348"
      upper="2.35"
      effort="8.3"
      velocity="12.36" />
  </joint>
  <link
    name="NECK_Y_S">
    <inertial>
              <origin
                xyz="0.0261 0.00014000000000000001 0.18196700000000002"
                rpy="0 0 0" />
              <mass
                value="2.50061" />
              <inertia
                ixx="0.014941218582000001"
                ixy="-2.5312678e-05"
                ixz="-8.0248209e-05"
                iyy="0.017071265236000003"
                iyz="-8.818254e-06"
                izz="0.009101680967" />
            </inertial>
    <visual>
      <origin
        xyz="0 0 0"
        rpy="0 0 0" />
      <geometry>
        <mesh
          filename="./meshes/NECK_Y_S.STL" />
      </geometry>
      <material
        name="">
        <color
          rgba="1 1 1 1" />
      </material>
    </visual>
    <!--<collision>
      <origin
        xyz="0 0 0"
        rpy="0 0 0" />
      <geometry>
        <mesh
          filename="./meshes/NECK_Y_S.STL" />
      </geometry>
    </collision>-->
  </link>
  <joint
    name="NECK_Y"
    type="fixed">
    <origin
      xyz="0.0005 -0.0465 0.365"
      rpy="0 0 0" />
    <parent
      link="WAIST_P_S" />
    <child
      link="NECK_Y_S" />
    <axis
      xyz="0 0 1" />
    <limit
      lower="-3.14"
      upper="3.14"
      effort="8.3"
      velocity="12.36" />
  </joint>


  <joint name="base_imu_joint" type="fixed">
    <origin rpy="0. 0. 0." xyz="0.05 0. 0" />
    <parent link="base_link" />
    <child link="base_imu" />
  </joint>
  <!-- Imu link -->
  <link name="base_imu">
    <inertial>
      <mass value="0.01" />
      <origin rpy="0 0 0" xyz="0 0 0" />
      <inertia ixx="0.000001" ixy="0" ixz="0" iyy="0.000001" iyz="0" izz="0.000001" />
    </inertial>
    <visual>
      <origin rpy="0 0 0" xyz="0 0 0" />
      <geometry>
        <box size="0.015 0.015 0.004" />
      </geometry>
    </visual>
    <material name="orange">
      <color rgba="255 108 10 255" />
    </material>
  </link>

  <!-- ros2控制器 -->
  <ros2_control name="t170robot" type="system">
    <hardware>
      <plugin>ros2_control_t170/RobotSystem</plugin>
    </hardware>
<!-- 右腿 -->
    <joint name="R_HIP_P">
      <command_interface name="position"/>
      <command_interface name="velocity"/>
      <command_interface name="effort"/>
      <state_interface name="position"/>
      <state_interface name="velocity"/>
      <state_interface name="effort"/>
    </joint>
    <joint name="R_HIP_R">
      <command_interface name="position"/>
      <command_interface name="velocity"/>
      <command_interface name="effort"/>
      <state_interface name="position"/>
      <state_interface name="velocity"/>
      <state_interface name="effort"/>
    </joint>
    <joint name="R_HIP_Y">
      <command_interface name="position"/>
      <command_interface name="velocity"/>
      <command_interface name="effort"/>
      <state_interface name="position"/>
      <state_interface name="velocity"/>
      <state_interface name="effort"/>
    </joint>
    <joint name="R_KNEE_P">
      <command_interface name="position"/>
      <command_interface name="velocity"/>
      <command_interface name="effort"/>
      <state_interface name="position"/>
      <state_interface name="velocity"/>
      <state_interface name="effort"/>
    </joint>
    <joint name="R_ANKLE_P">
      <command_interface name="position"/>
      <command_interface name="velocity"/>
      <command_interface name="effort"/>
      <state_interface name="position"/>
      <state_interface name="velocity"/>
      <state_interface name="effort"/>
    </joint>
    <joint name="R_ANKLE_R">
      <command_interface name="position"/>
      <command_interface name="velocity"/>
      <command_interface name="effort"/>
      <state_interface name="position"/>
      <state_interface name="velocity"/>
      <state_interface name="effort"/>
    </joint>
    <!-- 左腿 -->
    <joint name="L_HIP_P">
      <command_interface name="position"/>
      <command_interface name="velocity"/>
      <command_interface name="effort"/>
      <state_interface name="position"/>
      <state_interface name="velocity"/>
      <state_interface name="effort"/>
    </joint>
    <joint name="L_HIP_R">
      <command_interface name="position"/>
      <command_interface name="velocity"/>
      <command_interface name="effort"/>
      <state_interface name="position"/>
      <state_interface name="velocity"/>
      <state_interface name="effort"/>
    </joint>
    <joint name="L_HIP_Y">
      <command_interface name="position"/>
      <command_interface name="velocity"/>
      <command_interface name="effort"/>
      <state_interface name="position"/>
      <state_interface name="velocity"/>
      <state_interface name="effort"/>
    </joint>
    <joint name="L_KNEE_P">
      <command_interface name="position"/>
      <command_interface name="velocity"/>
      <command_interface name="effort"/>
      <state_interface name="position"/>
      <state_interface name="velocity"/>
      <state_interface name="effort"/>
    </joint>
    <joint name="L_ANKLE_P">
      <command_interface name="position"/>
      <command_interface name="velocity"/>
      <command_interface name="effort"/>
      <state_interface name="position"/>
      <state_interface name="velocity"/>
      <state_interface name="effort"/>
    </joint>
    <joint name="L_ANKLE_R">
      <command_interface name="position"/>
      <command_interface name="velocity"/>
      <command_interface name="effort"/>
      <state_interface name="position"/>
      <state_interface name="velocity"/>
      <state_interface name="effort"/>
    </joint>
    <!-- 腰部 -->
    <joint name="WAIST_Y">
      <command_interface name="position"/>
      <command_interface name="velocity"/>
      <command_interface name="effort"/>
      <state_interface name="position"/>
      <state_interface name="velocity"/>
      <state_interface name="effort"/>
    </joint>
    <joint name="WAIST_P">
      <command_interface name="position"/>
      <command_interface name="velocity"/>
      <command_interface name="effort"/>
      <state_interface name="position"/>
      <state_interface name="velocity"/>
      <state_interface name="effort"/>
    </joint>
    <joint name="WAIST_R">
      <command_interface name="position"/>
      <command_interface name="velocity"/>
      <command_interface name="effort"/>
      <state_interface name="position"/>
      <state_interface name="velocity"/>
      <state_interface name="effort"/>
    </joint>
    <!-- 右臂 -->
    <joint name="R_SHOULDER_P">
      <command_interface name="position"/>
      <command_interface name="velocity"/>
      <command_interface name="effort"/>
      <state_interface name="position"/>
      <state_interface name="velocity"/>
      <state_interface name="effort"/>
    </joint>
    <joint name="R_SHOULDER_R">
        <command_interface name="position"/>
        <command_interface name="velocity"/>
        <command_interface name="effort"/>
        <state_interface name="position"/>
        <state_interface name="velocity"/>
        <state_interface name="effort"/>
    </joint>

    <joint name="R_SHOULDER_Y">
        <command_interface name="position"/>
        <command_interface name="velocity"/>
        <command_interface name="effort"/>
        <state_interface name="position"/>
        <state_interface name="velocity"/>
        <state_interface name="effort"/>
    </joint>

    <joint name="R_ELBOW_Y">
        <command_interface name="position"/>
        <command_interface name="velocity"/>
        <command_interface name="effort"/>
        <state_interface name="position"/>
        <state_interface name="velocity"/>
        <state_interface name="effort"/>
    </joint>
    <joint name="R_WRIST_P">
        <command_interface name="position"/>
        <command_interface name="velocity"/>
        <command_interface name="effort"/>
        <state_interface name="position"/>
        <state_interface name="velocity"/>
        <state_interface name="effort"/>
    </joint>
    <joint name="R_WRIST_Y">
        <command_interface name="position"/>
        <command_interface name="velocity"/>
        <command_interface name="effort"/>
        <state_interface name="position"/>
        <state_interface name="velocity"/>
        <state_interface name="effort"/>
    </joint>
    <joint name="R_WRIST_R">
        <command_interface name="position"/>
        <command_interface name="velocity"/>
        <command_interface name="effort"/>
        <state_interface name="position"/>
        <state_interface name="velocity"/>
        <state_interface name="effort"/>
    </joint>
        <!-- 左臂 -->
    <joint name="L_SHOULDER_P">
      <command_interface name="position"/>
      <command_interface name="velocity"/>
      <command_interface name="effort"/>
      <state_interface name="position"/>
      <state_interface name="velocity"/>
      <state_interface name="effort"/>
    </joint>
    <joint name="L_SHOULDER_R">
        <command_interface name="position"/>
        <command_interface name="velocity"/>
        <command_interface name="effort"/>
        <state_interface name="position"/>
        <state_interface name="velocity"/>
        <state_interface name="effort"/>
    </joint>

    <joint name="L_SHOULDER_Y">
        <command_interface name="position"/>
        <command_interface name="velocity"/>
        <command_interface name="effort"/>
        <state_interface name="position"/>
        <state_interface name="velocity"/>
        <state_interface name="effort"/>
    </joint>
    <joint name="L_ELBOW_Y">
        <command_interface name="position"/>
        <command_interface name="velocity"/>
        <command_interface name="effort"/>
        <state_interface name="position"/>
        <state_interface name="velocity"/>
        <state_interface name="effort"/>
    </joint>
    <joint name="L_WRIST_P">
        <command_interface name="position"/>
        <command_interface name="velocity"/>
        <command_interface name="effort"/>
        <state_interface name="position"/>
        <state_interface name="velocity"/>
        <state_interface name="effort"/>
    </joint>
    <joint name="L_WRIST_Y">
        <command_interface name="position"/>
        <command_interface name="velocity"/>
        <command_interface name="effort"/>
        <state_interface name="position"/>
        <state_interface name="velocity"/>
        <state_interface name="effort"/>
    </joint>
    <joint name="L_WRIST_R">
        <command_interface name="position"/>
        <command_interface name="velocity"/>
        <command_interface name="effort"/>
        <state_interface name="position"/>
        <state_interface name="velocity"/>
        <state_interface name="effort"/>
    </joint>
  </ros2_control>
</robot>
